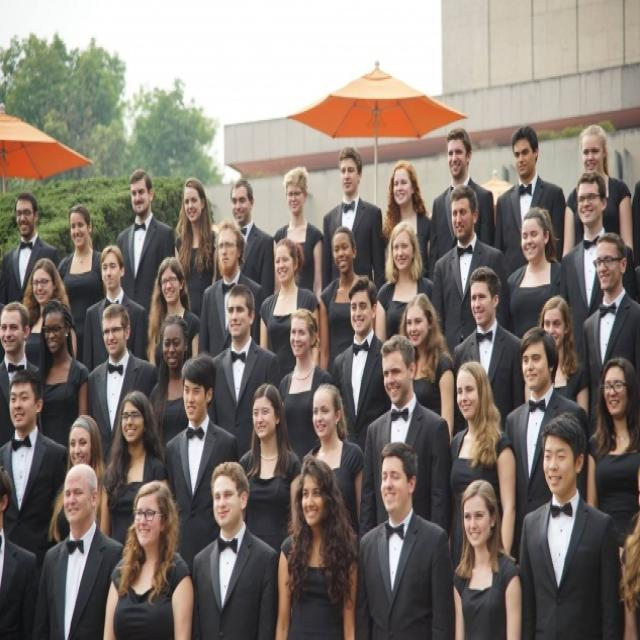body: (516, 413, 622, 640), (358, 332, 454, 556), (502, 324, 590, 568), (347, 440, 454, 638), (162, 353, 240, 579), (186, 454, 280, 638), (98, 473, 198, 638), (34, 461, 126, 638), (272, 462, 363, 639), (557, 173, 637, 368), (447, 359, 518, 570), (205, 281, 283, 462), (0, 366, 72, 558), (430, 182, 510, 353), (451, 264, 526, 438), (85, 301, 158, 474), (581, 231, 640, 438), (492, 122, 568, 280), (451, 477, 524, 640), (237, 380, 302, 556), (426, 125, 498, 282), (100, 388, 170, 548), (584, 354, 640, 549), (331, 272, 390, 456), (303, 380, 366, 549), (561, 123, 635, 260), (113, 167, 178, 318), (197, 220, 267, 360), (275, 306, 336, 464), (321, 144, 386, 292), (30, 298, 92, 451), (397, 290, 456, 447), (256, 236, 320, 377), (82, 242, 150, 374), (318, 223, 377, 371), (505, 202, 566, 344), (47, 413, 112, 546), (522, 293, 589, 421), (57, 204, 108, 365), (271, 164, 326, 306), (373, 219, 435, 343), (145, 254, 203, 381), (173, 176, 223, 321), (0, 190, 62, 306), (0, 463, 39, 640), (18, 256, 79, 366), (380, 156, 433, 280), (0, 304, 43, 447), (148, 312, 190, 448), (228, 175, 269, 296), (615, 460, 640, 638)
